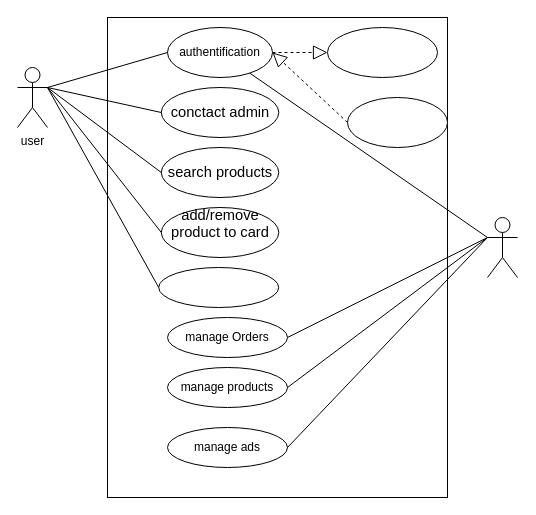
The diagram is 536 pixels wide and 515 high, and some of its shapes have lost their labels. Here are the shapes that lost their labels. From the top down, the box of each, then its label:
(326, 26, 438, 78): verifier username and password
(346, 96, 448, 148): show error msg
(486, 216, 518, 278): admin
(158, 266, 279, 308): buy product
